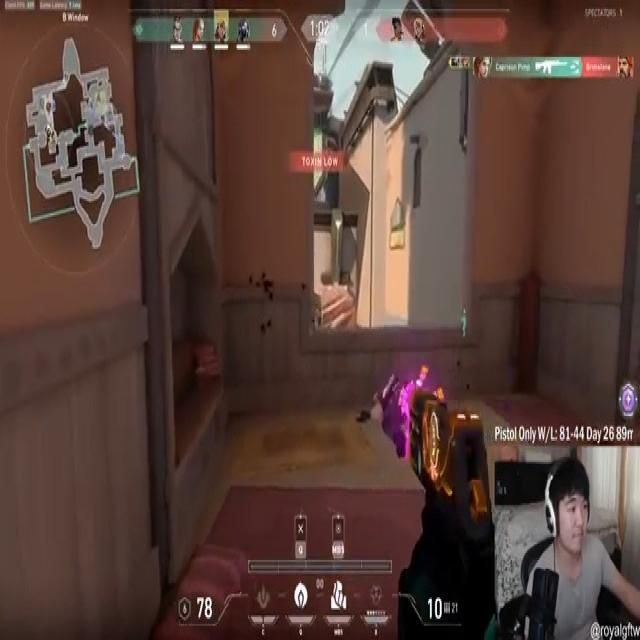ally behind wall: (460, 309, 468, 341)
